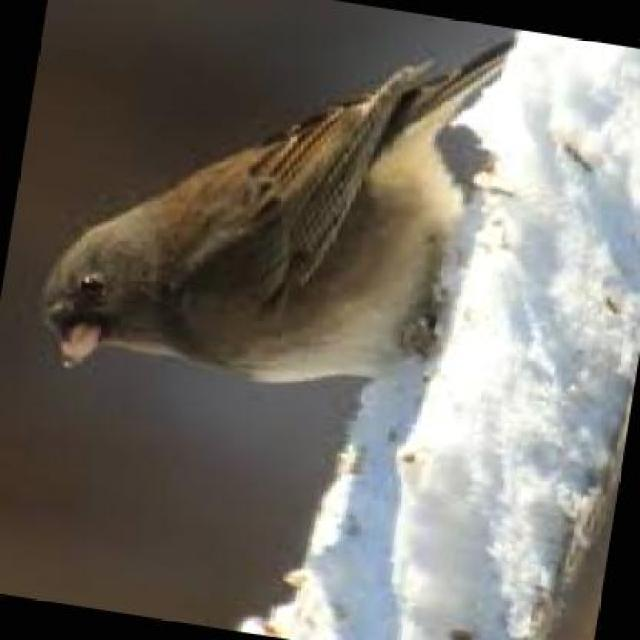Bird: (30, 25, 516, 408)
